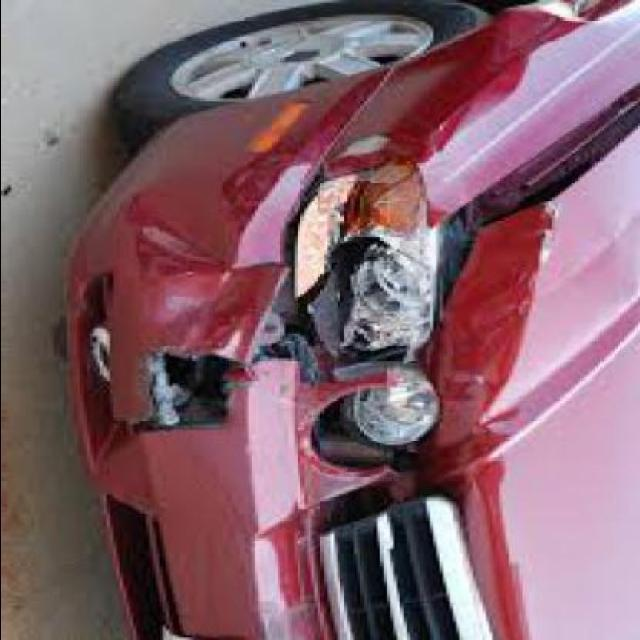Headlight-Damage: (282, 161, 445, 358)
Signlight-Damage: (282, 160, 433, 270)
front-bumper-dent: (64, 229, 279, 509)
